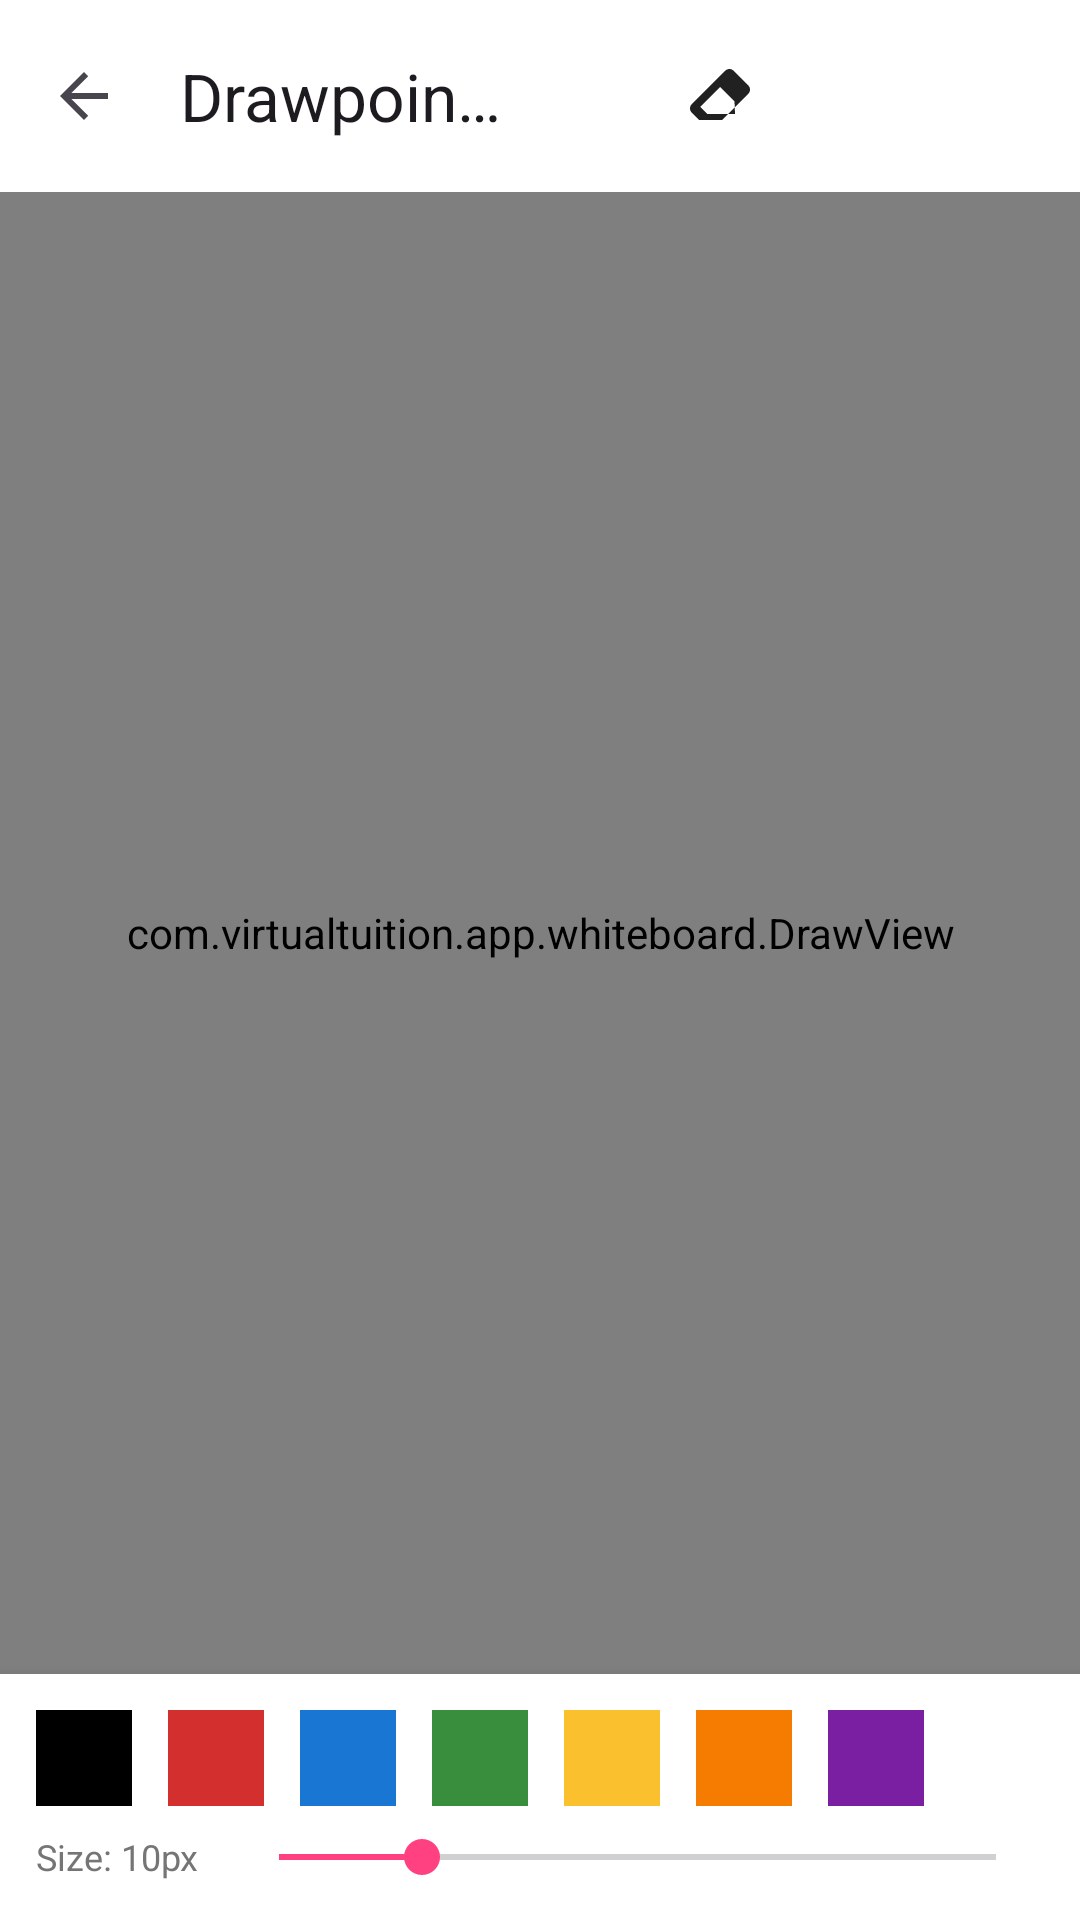

Icons on this 1080 × 1920 Android screen, each with its box as bbox(x1, y1, x2, y2):
Eraser: bbox(690, 69, 750, 120)
